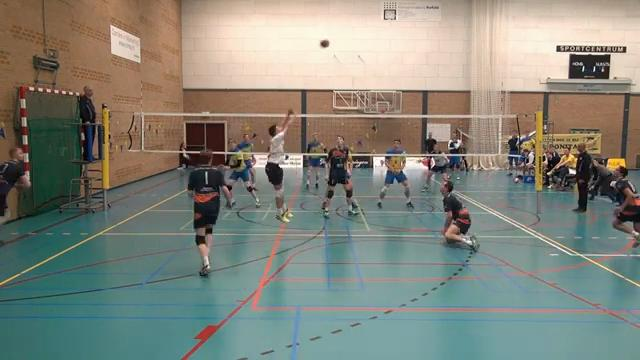alzata: (265, 107, 297, 225)
